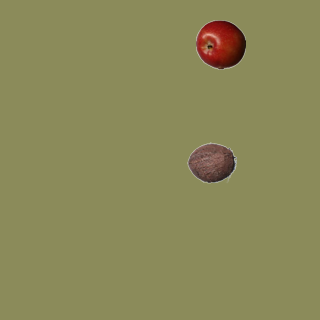Apple Braeburn: (195, 19, 245, 69)
Cocos: (186, 137, 236, 187)
